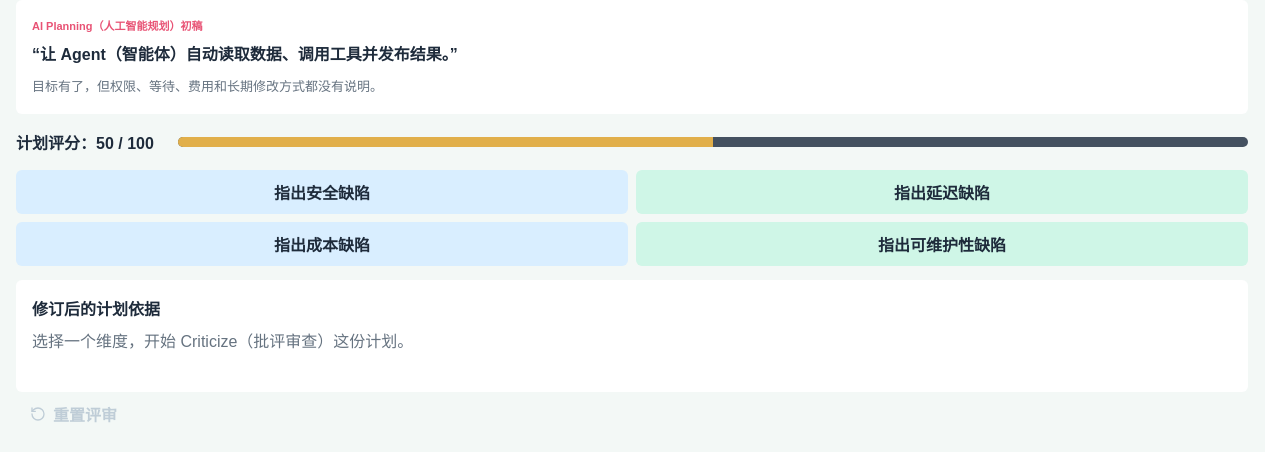
Scenario: PlanCritic › improves the plan through explicit architecture critiques
The width and height of the screenshot is (1265, 452).
Click the button "指出安全缺陷" at (322, 192), box [16,170,628,214]
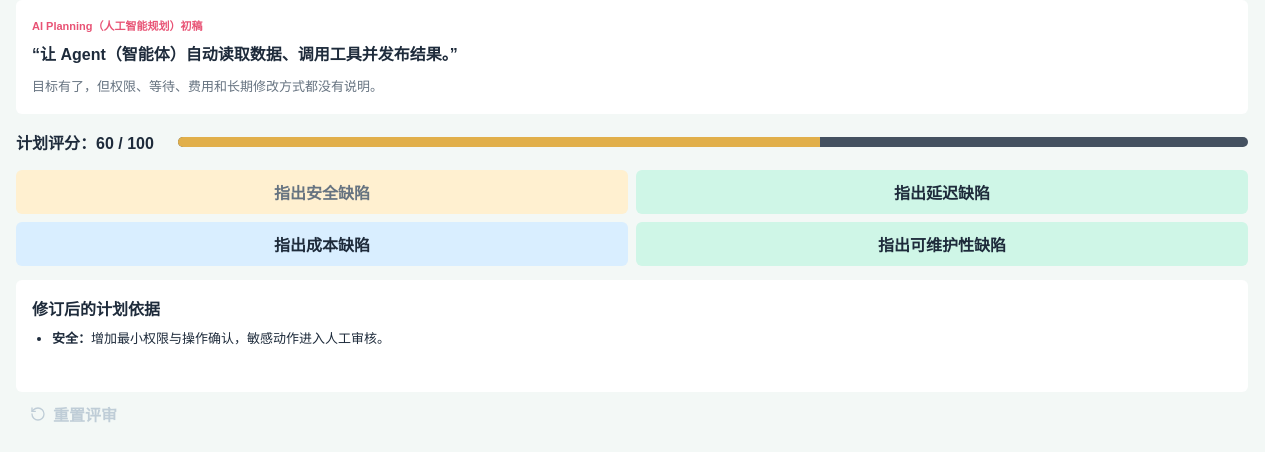
Click the button "指出延迟缺陷" at (942, 192), box [636,170,1248,214]
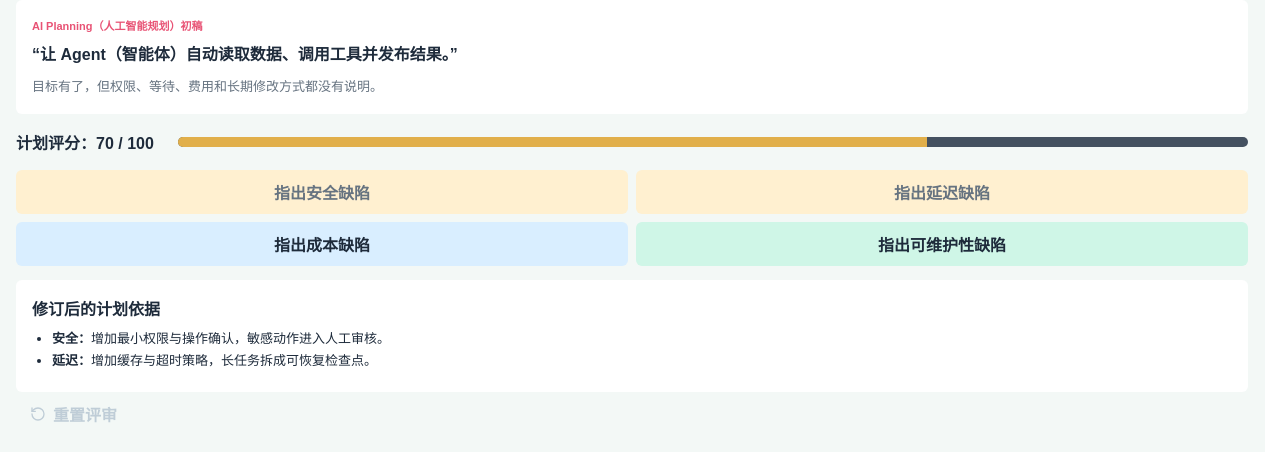
Result: the list item "安全：增加最小权限与操作确认，敏感动作进入人工审核。" is shown at [52,331,390,346]
Result: the text "计划评分：70 / 100" is shown at [16,130,166,154]
Result: the list item "延迟：增加缓存与超时策略，长任务拆成可恢复检查点。" is shown at [52,353,377,368]
